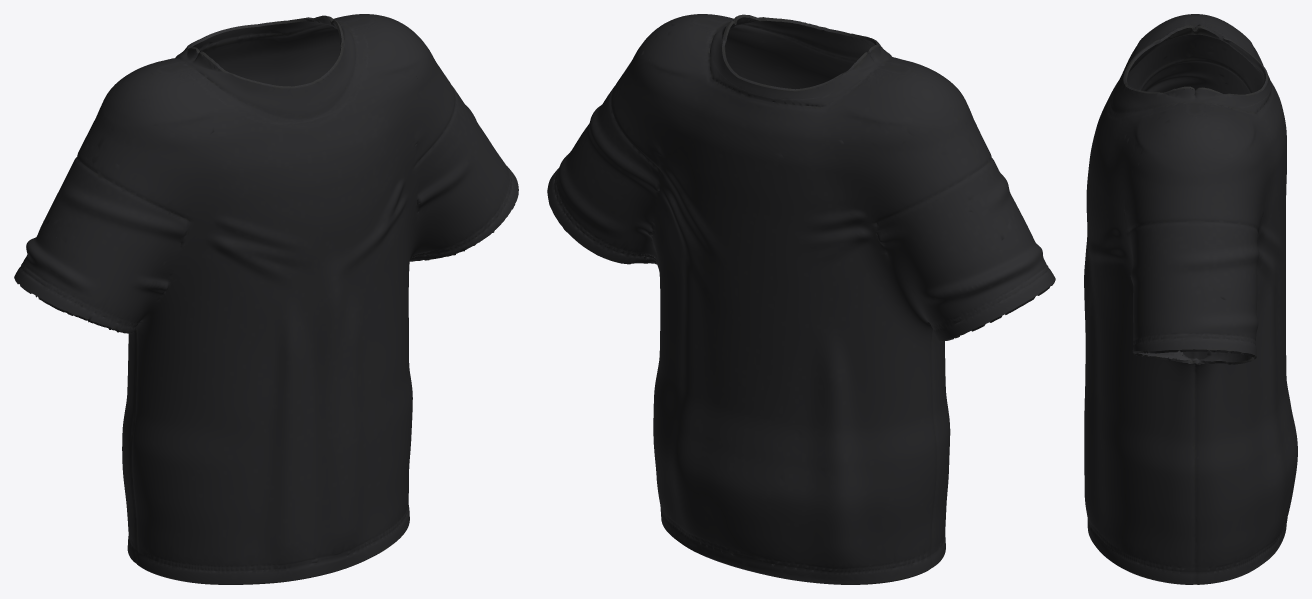
Rendered from 02_camiseta_oversize_pbr.glb.
3 renders of one model, left to right at view 1: azimuth 30°, elevation 25°; view 2: azimuth 150°, elevation 25°; view 3: azimuth 270°, elevation 25°, orthographic. The views are drawn at different scales.
Visible parts, largest first — view 1: Camiseta PBR; view 2: Camiseta PBR; view 3: Camiseta PBR.
Boxes of the visible parts, <box> form: Camiseta PBR: <box>14,14,518,584</box>; Camiseta PBR: <box>547,14,1055,584</box>; Camiseta PBR: <box>1084,14,1297,584</box>.
Bounding box in the file's own units: 0.7991 × 0.7896 × 0.3251.
Materials: 1 (1 with a texture image).
